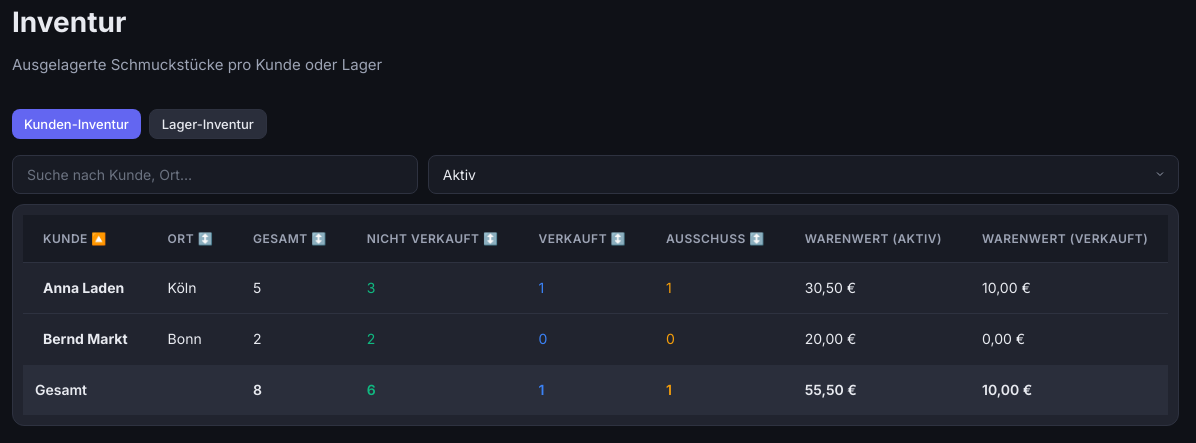
Test case: Kunden-Inventur (Abgleich) › filtert per Suche nach Name und Ort, Groß-/Kleinschreibung egal
Expected: the text "Anna Laden" is shown, [43,279,124,296]
Type "bonn" into the field with placeholder "Suche nach Kunde, Ort…".
click(215, 174); type("bonn")  # box [12,155,418,194]
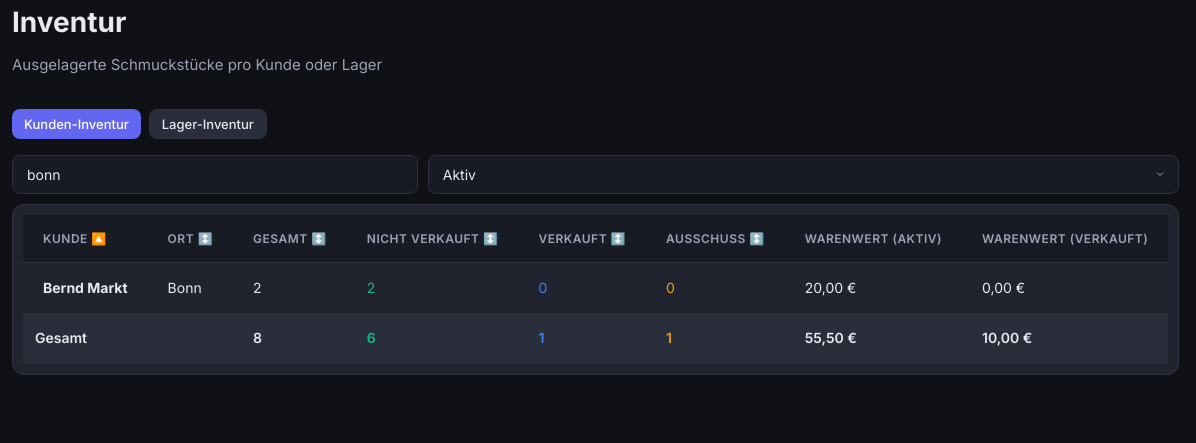
Expected: the text "Bernd Markt" is shown, [43,279,128,296]
Now the text "Anna Laden" is gone
